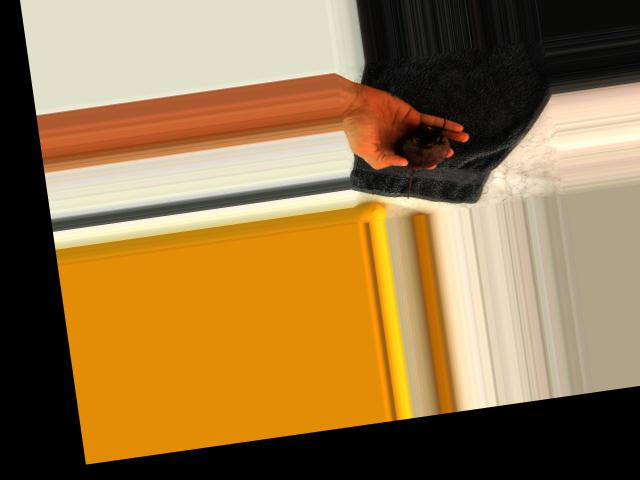beet: (391, 121, 455, 199)
